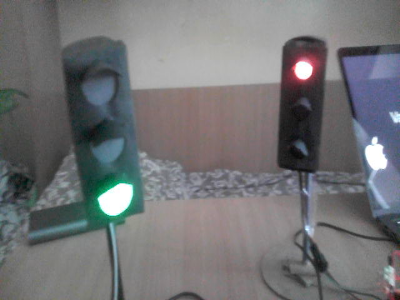trafficlight_green: (66, 51, 144, 217)
trafficlight_red: (278, 44, 328, 165)
